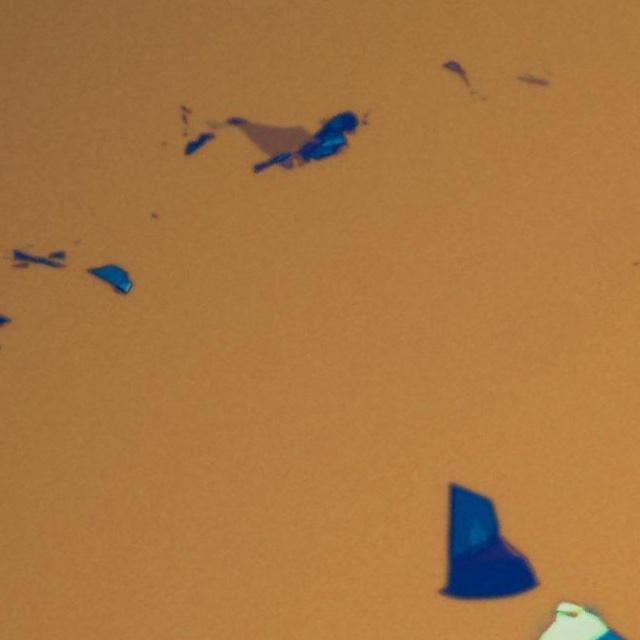monolayer-eWW4: (235, 124, 312, 156)
